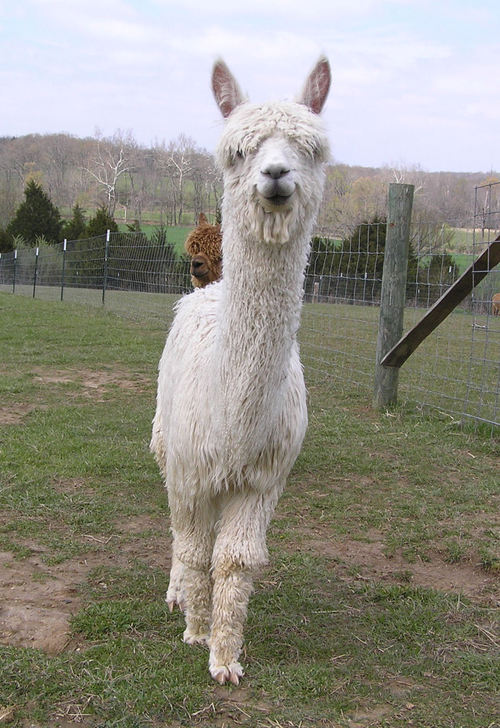alpaca: (151, 53, 331, 687)
